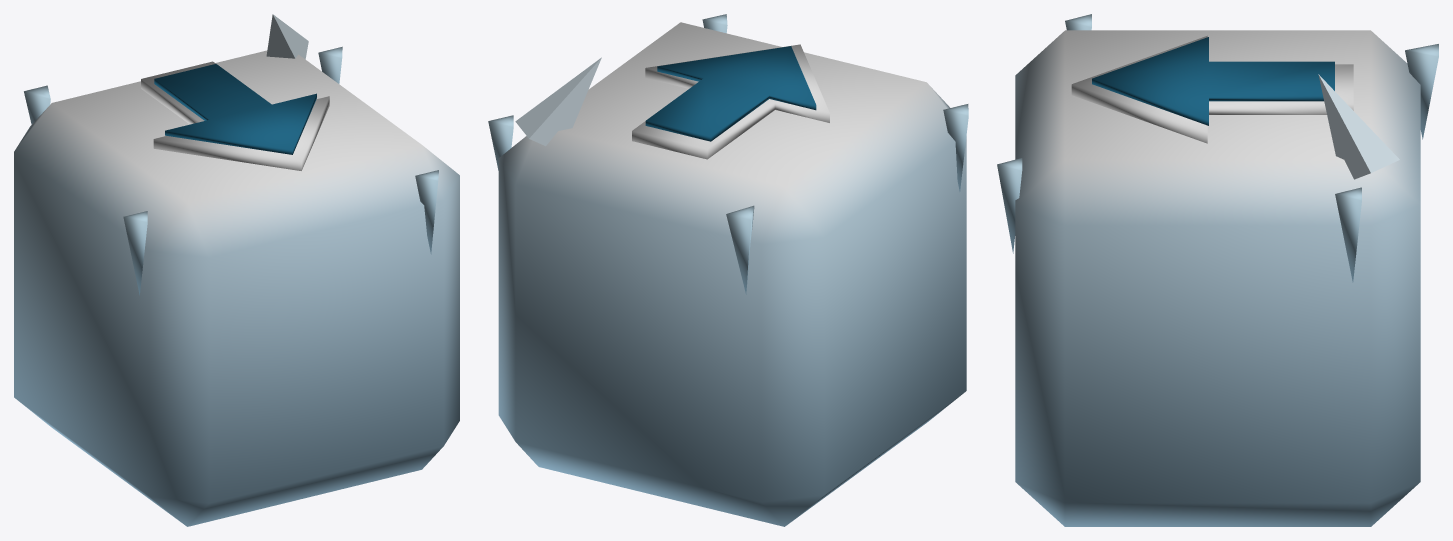
Rendered from buz_lod2.glb.
3 renders of one model, left to right at view 1: azimuth 30°, elevation 25°; view 2: azimuth 150°, elevation 25°; view 3: azimuth 270°, elevation 25°, orthographic. The views are drawn at different scales.
Visible parts, largest first — view 1: buz_lod2; view 2: buz_lod2; view 3: buz_lod2.
Boxes of the visible parts, x1,y1,x2,y2 form: buz_lod2: (14,14,459,526); buz_lod2: (488,14,968,526); buz_lod2: (997,14,1438,526).
Size of the model in its own units: 0.982 by 1.06 by 0.982.
